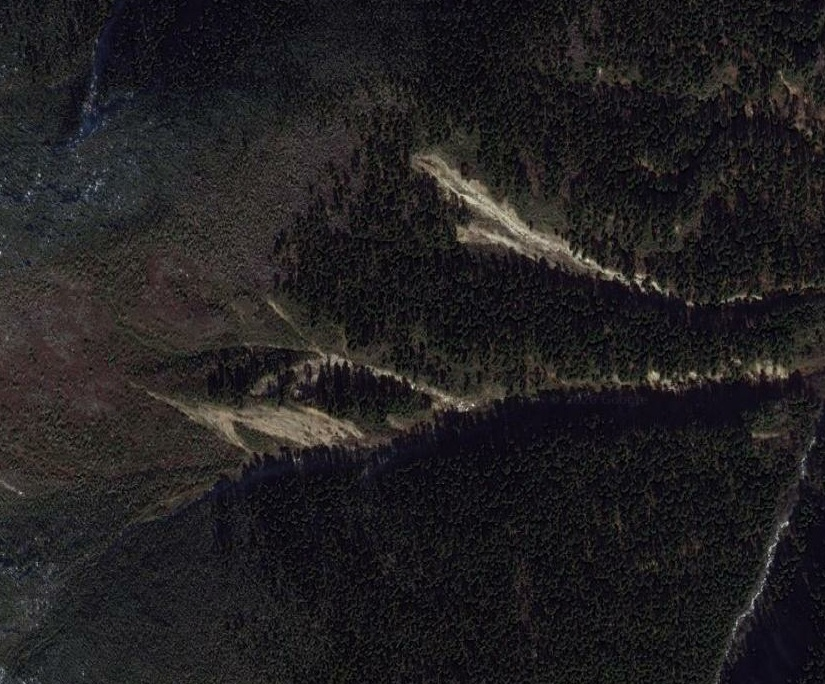slope: (410, 148, 618, 281), (140, 385, 381, 454), (249, 348, 477, 412)
